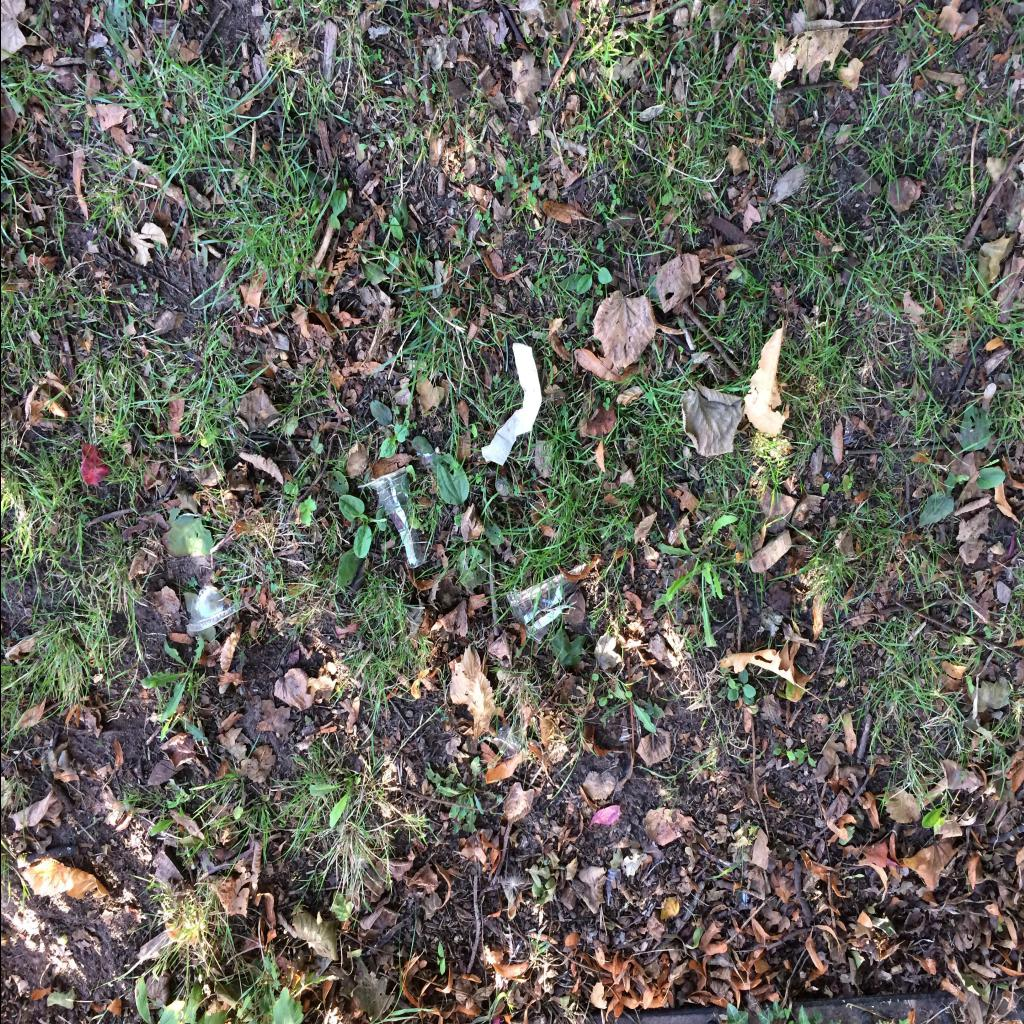Disposable plastic cup: (356, 466, 426, 568), (506, 561, 588, 644)
Normal paper: (480, 344, 540, 466)
Other plastic bottle: (188, 584, 234, 632)
